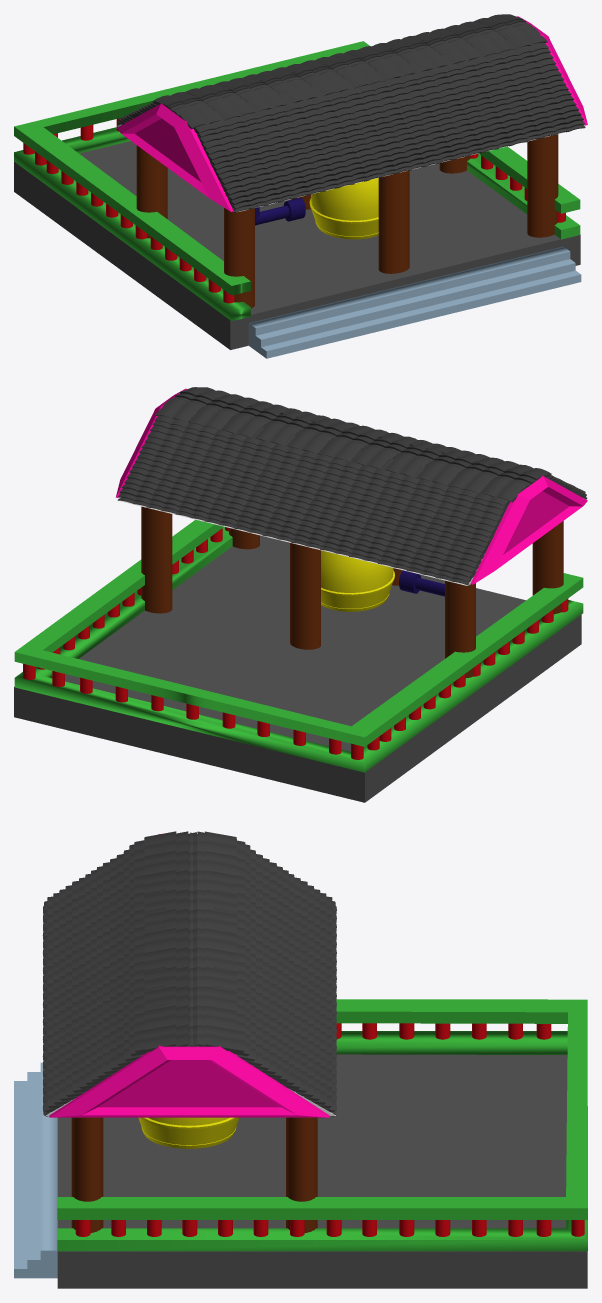
The model's file is 제야의종.fbx.
3 renders of one model, top to bottom at view 1: azimuth 30°, elevation 25°; view 2: azimuth 150°, elevation 25°; view 3: azimuth 270°, elevation 25°, orthographic. The views are drawn at different scales.
Parts seen in each view (by area): view 1: 바닥, 사이드벽-3, 앞계단, 지붕사이드-2, Sphere001, 기둥-5, 기둥-6, Cylinder025, 기둥-4, 기둥-1, Cylinder041, Box678 (+10 smaller); view 2: 바닥, 사이드벽-3, 지붕사이드-2, Cylinder025, Sphere001, 기둥-3, 기둥-2, 기둥-1, 기둥-4, Cylinder041, Box625, Box685 (+8 smaller); view 3: 바닥, 사이드벽-3, 지붕사이드-2, 앞계단, Cylinder025, 기둥-6, 기둥-3, Sphere001, Box684, Box685, Box678, Box654 (+11 smaller).
Part boxes in pixels (x1,y1,x2,y2): 바닥: (14,141,580,349); 사이드벽-3: (14,41,580,321); 앞계단: (248,246,581,358); 지붕사이드-2: (116,16,587,211); Sphere001: (309,178,378,239); 기둥-5: (378,170,409,273); 기둥-6: (527,134,558,237); Cylinder025: (23,118,565,303); 기둥-4: (224,208,254,308); 기둥-1: (136,145,167,238); Cylinder041: (255,197,305,225); Box678: (470,35,514,56); 바닥: (14,535,581,802); 사이드벽-3: (14,519,583,772); 지붕사이드-2: (115,388,587,584); Cylinder025: (23,527,568,759); Sphere001: (321,550,394,611); 기둥-3: (141,506,172,613); 기둥-2: (290,543,320,649); 기둥-1: (445,580,475,677); 기둥-4: (532,521,563,613); Cylinder041: (399,570,444,596); Box625: (479,479,524,502); Box685: (155,400,199,422); 바닥: (57,1054,587,1288); 사이드벽-3: (57,999,587,1251); 지붕사이드-2: (49,834,329,1117); 앞계단: (14,1062,57,1278); Cylinder025: (75,1023,584,1236); 기둥-6: (71,1117,103,1232); 기둥-3: (286,1117,317,1232); Sphere001: (138,1117,239,1148); Box684: (144,1024,176,1051); Box685: (205,1025,236,1051); Box678: (144,1005,176,1029); Box654: (144,928,176,952).
Bounding box in the file's own units: 291 × 151 × 316.
